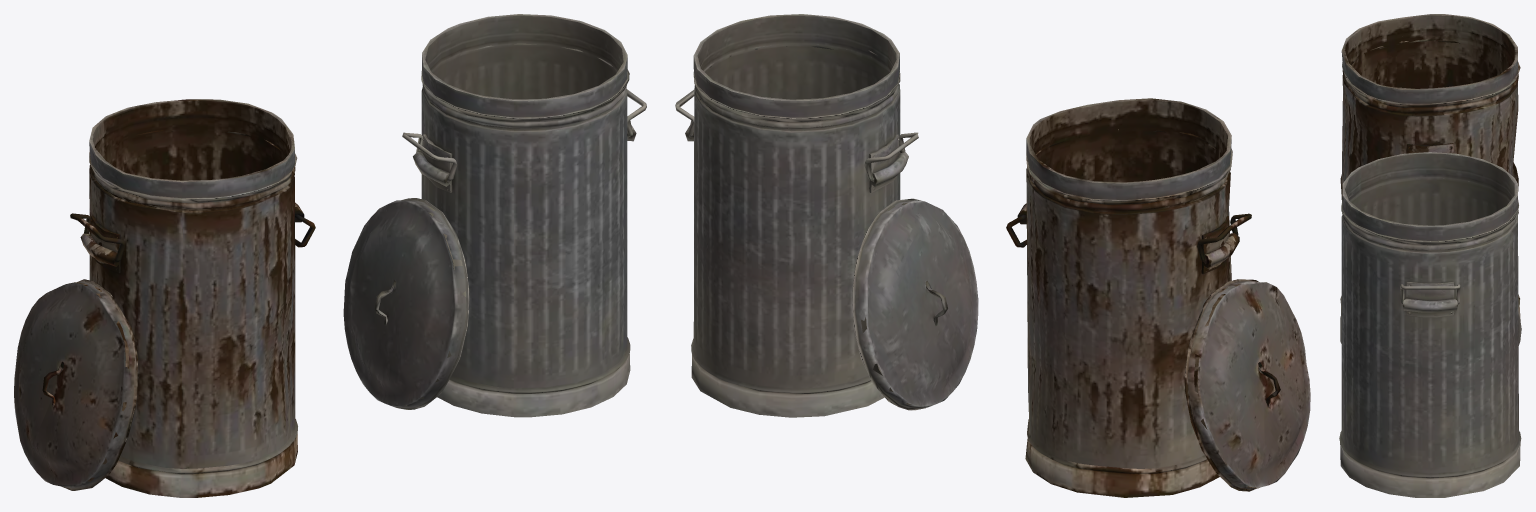
The model's file is metal_trash_can.glb.
The picture shows the model from 3 angles, left to right: view 1: azimuth 30°, elevation 25°; view 2: azimuth 150°, elevation 25°; view 3: azimuth 270°, elevation 25°; orthographic projection. The views are drawn at different scales.
Visible parts, largest first — view 1: metal_trash_can, metal_trash_can_rust, metal_trash_can_lid, metal_trash_can_rust_lid; view 2: metal_trash_can, metal_trash_can_rust, metal_trash_can_lid, metal_trash_can_rust_lid; view 3: metal_trash_can, metal_trash_can_rust, metal_trash_can_handle_right.
Part boxes in pixels (x1=…): metal_trash_can: x1=413, y1=14, x2=636, y2=417; metal_trash_can_rust: x1=80, y1=99, x2=304, y2=497; metal_trash_can_lid: x1=343, y1=198, x2=469, y2=409; metal_trash_can_rust_lid: x1=14, y1=279, x2=137, y2=490; metal_trash_can: x1=685, y1=14, x2=908, y2=417; metal_trash_can_rust: x1=1017, y1=98, x2=1239, y2=497; metal_trash_can_lid: x1=852, y1=198, x2=978, y2=410; metal_trash_can_rust_lid: x1=1184, y1=279, x2=1310, y2=491; metal_trash_can: x1=1339, y1=152, x2=1521, y2=497; metal_trash_can_rust: x1=1340, y1=14, x2=1520, y2=319; metal_trash_can_handle_right: x1=1400, y1=284, x2=1460, y2=304.
Bounding box in the file's own units: 1.78 × 0.9062 × 0.5533.
2 materials, 2 textured.
